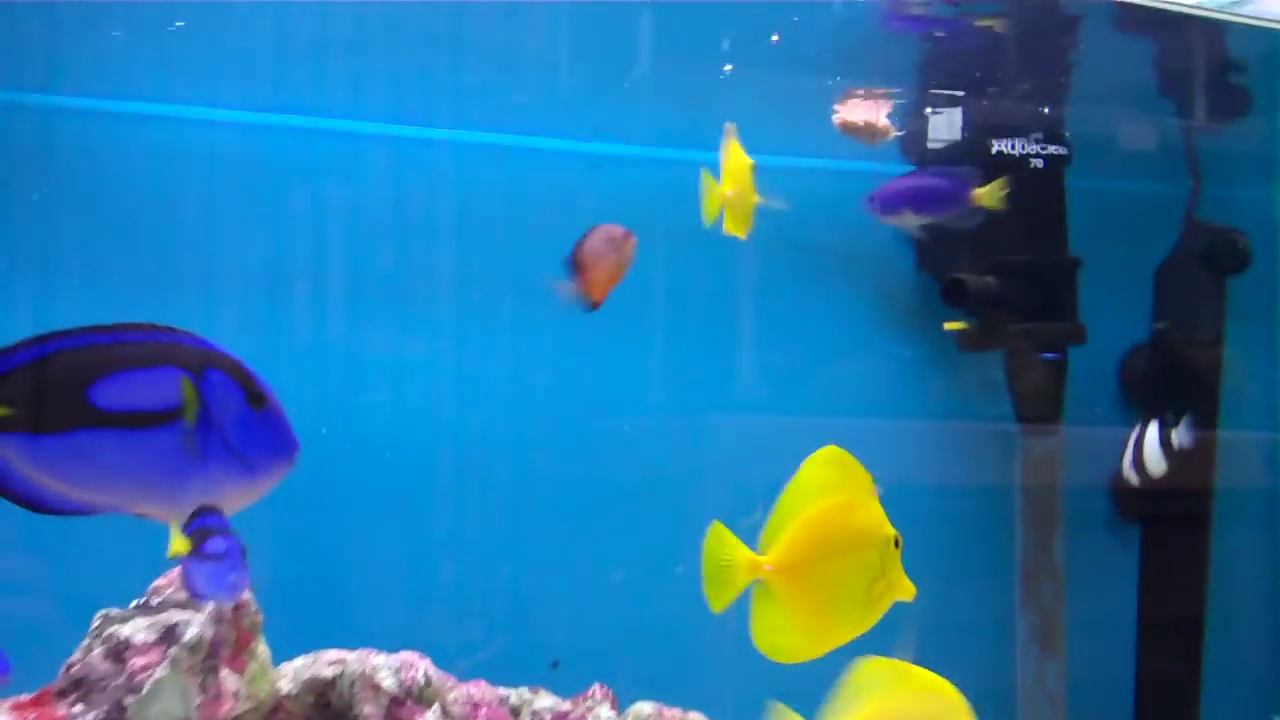blue tang surgeonfish: (0, 327, 300, 523), (161, 504, 265, 617)
saddle butterfly fish: (690, 431, 919, 674), (690, 98, 777, 242)
